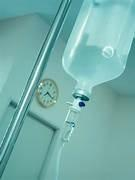Iv_Bottle: (62, 0, 134, 93)
